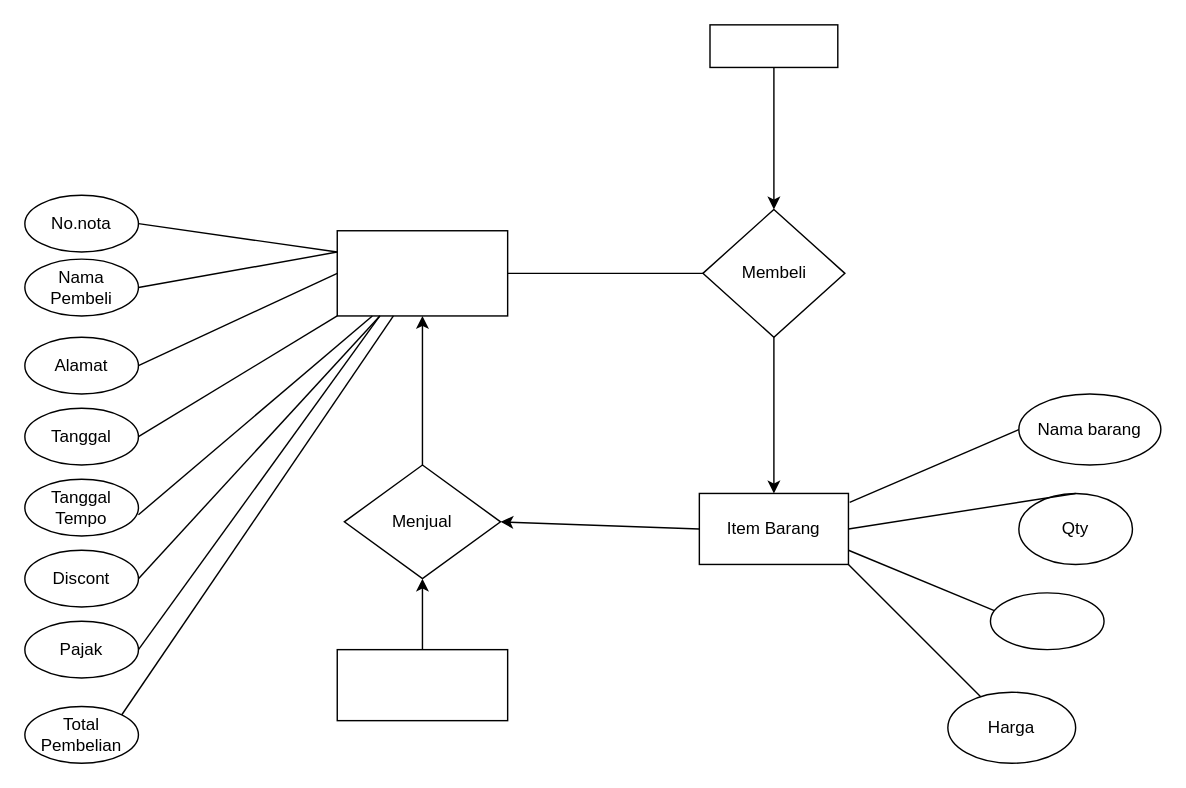
This 1186x788 diagram has some shape labels left out. The centre of each missing label's shape, as x and y in pixels:
Nota Transaksi: (422,272)
Pembeli: (773,45)
Sales: (422,684)
Unit: (1046,620)
